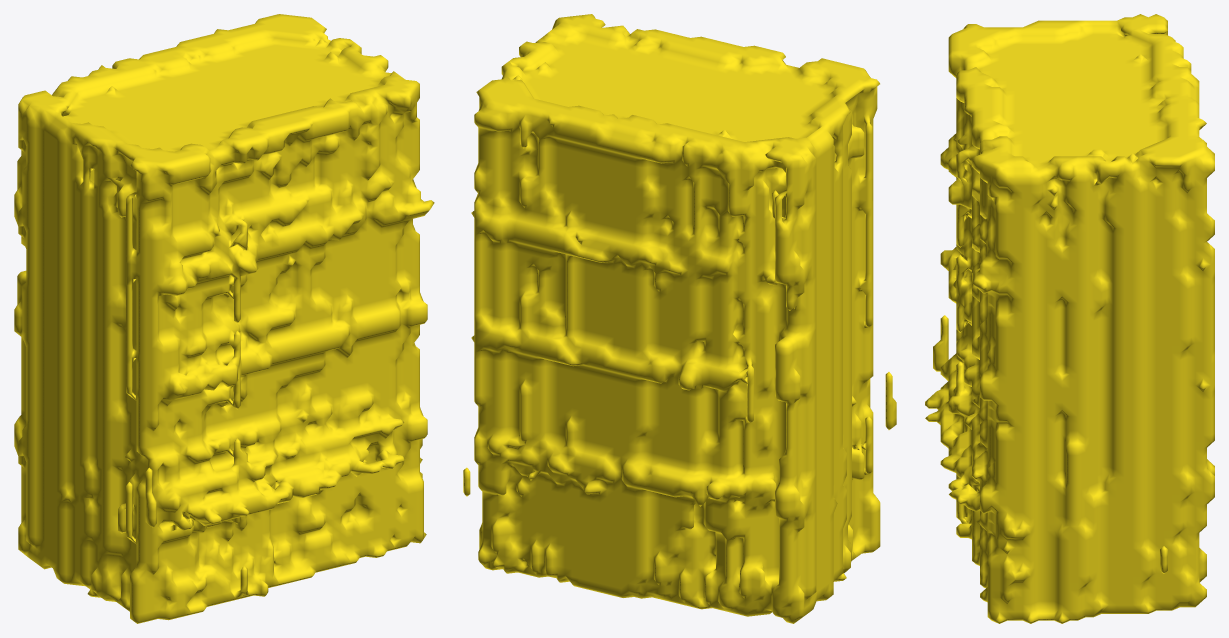
Rendered from gen1_colored.obj.
3 renders of one model, left to right at view 1: azimuth 30°, elevation 25°; view 2: azimuth 150°, elevation 25°; view 3: azimuth 270°, elevation 25°, orthographic. The views are drawn at different scales.
Parts seen in each view (by area): view 1: gen1.obj; view 2: gen1.obj; view 3: gen1.obj.
Part boxes in pixels (x1=…): gen1.obj: x1=14, y1=14, x2=434, y2=623; gen1.obj: x1=463, y1=14, x2=896, y2=623; gen1.obj: x1=925, y1=14, x2=1214, y2=623.
Bounding box in the file's own units: 48 × 64 × 37.
